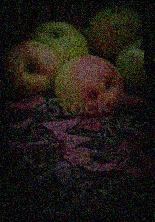rotten apple: (51, 54, 123, 117), (87, 7, 143, 55)
